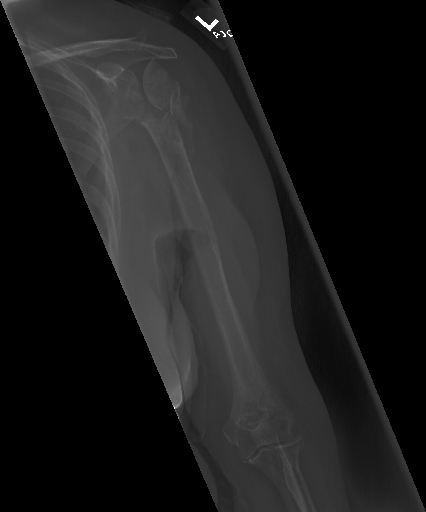fracture: (171, 209, 242, 274)
